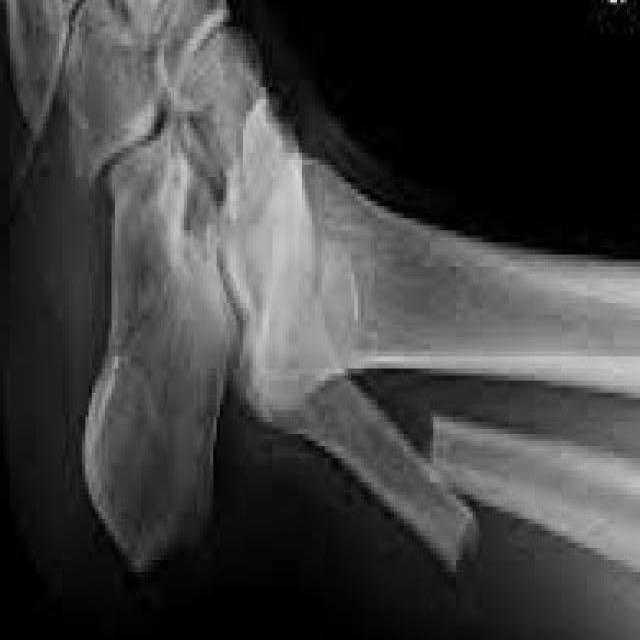Fracture: (417, 386, 495, 600)
